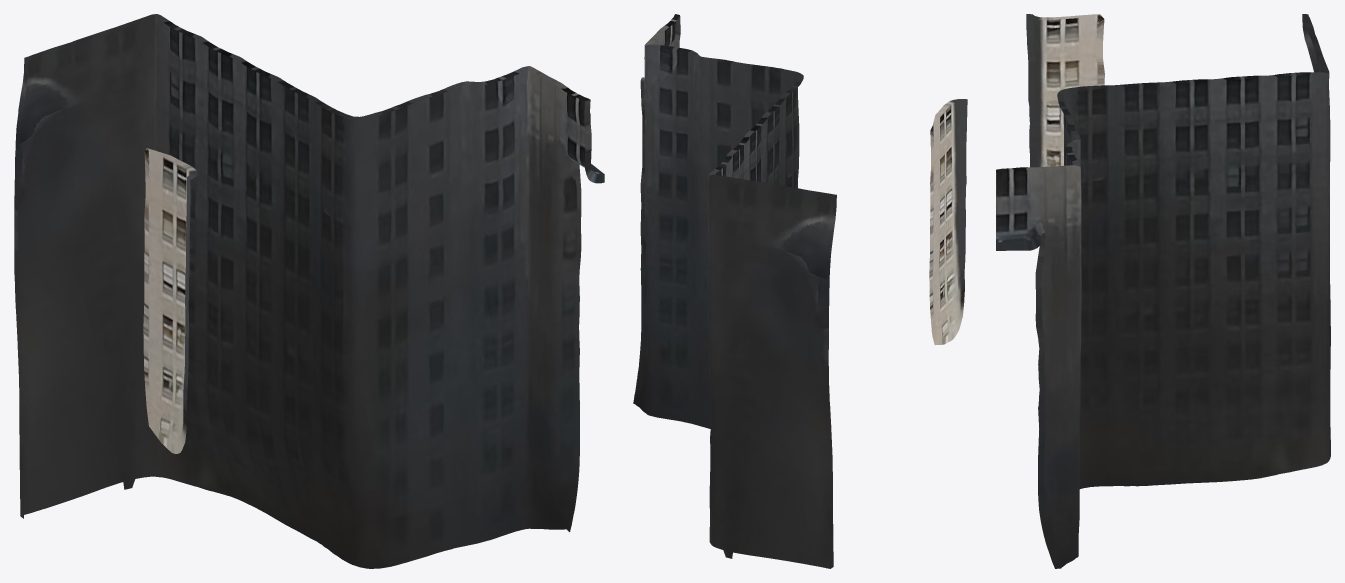
The model's file is z20-167763-405235-h1-yup-uvflip-v3-world.glb.
3 renders of one model, left to right at view 1: azimuth 30°, elevation 25°; view 2: azimuth 150°, elevation 25°; view 3: azimuth 270°, elevation 25°, orthographic. The views are drawn at different scales.
Size of the model in its own units: 30.2 by 34.16 by 26.08.
Materials: 1 (1 with a texture image).
